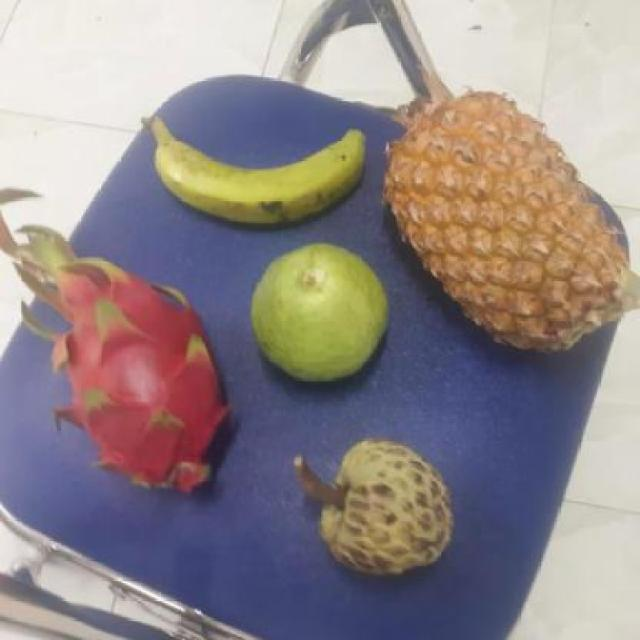banana: (154, 118, 381, 227)
dragon fruit: (32, 269, 240, 496)
guava: (250, 245, 401, 384)
pineapple: (391, 102, 634, 360)
sugar apple: (308, 439, 462, 576)
